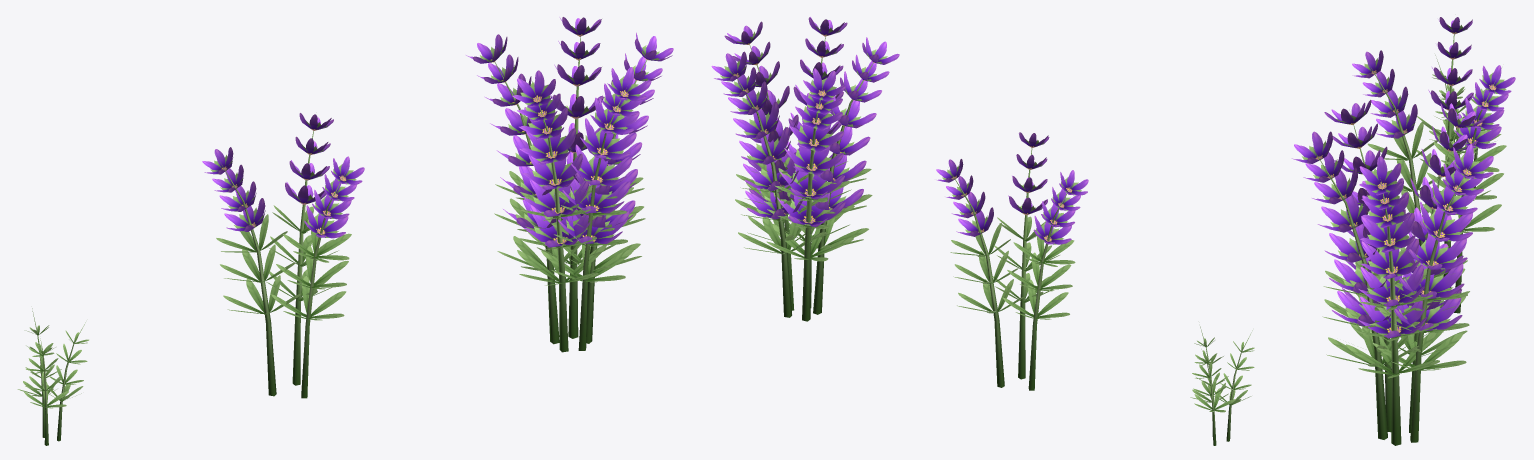
File: Lavender_Lv.FBX
3 views of the same model, side by side, from view 1: azimuth 30°, elevation 25°; view 2: azimuth 150°, elevation 25°; view 3: azimuth 270°, elevation 25° (orthographic). The views are drawn at different scales.
Visible parts, largest first — view 1: Lavender_Lv3, Lavender_Lv2, Lavender_Lv1; view 2: Lavender_Lv3, Lavender_Lv2, Lavender_Lv1; view 3: Lavender_Lv3, Lavender_Lv2, Lavender_Lv1.
Part boxes in pixels (bbox=[...]): Lavender_Lv3: bbox=[466, 17, 673, 352]; Lavender_Lv2: bbox=[202, 113, 364, 398]; Lavender_Lv1: bbox=[17, 308, 88, 445]; Lavender_Lv3: bbox=[711, 17, 899, 321]; Lavender_Lv2: bbox=[936, 132, 1088, 390]; Lavender_Lv1: bbox=[1190, 326, 1254, 445]; Lavender_Lv3: bbox=[1291, 100, 1493, 445]; Lavender_Lv2: bbox=[1352, 17, 1515, 313]; Lavender_Lv1: bbox=[1429, 55, 1501, 188].
Bounding box in the file's own units: 189 × 88.2 × 59.91.
